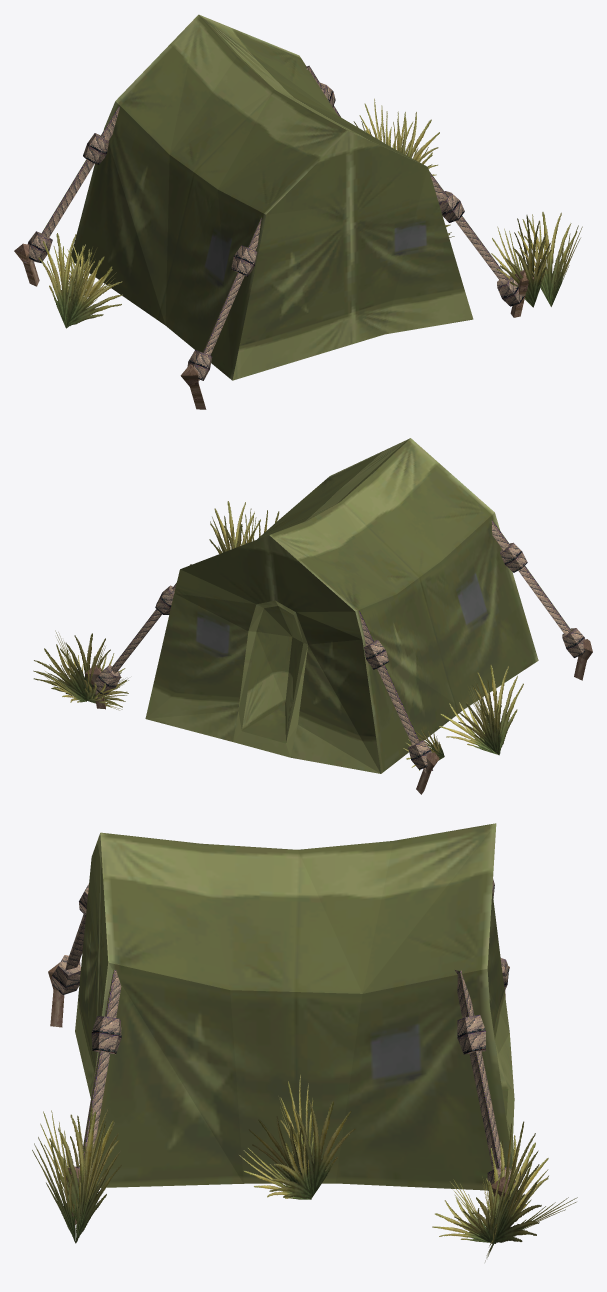
File: C1SMSMALLTENT2H.obj
3 views of the same model, one above another, from view 1: azimuth 30°, elevation 25°; view 2: azimuth 150°, elevation 25°; view 3: azimuth 270°, elevation 25° (orthographic). The views are drawn at different scales.
Parts seen in each view (by area): view 1: Node 2, Node 0, Node 3, Node 4, Node 5; view 2: Node 2, Node 0, Node 3, Node 4, Node 6; view 3: Node 2, Node 0, Node 6, Node 5, Node 4.
Part boxes in pixels (box(x1,y1,x2,y2)): Node 2: box(71, 14, 473, 380); Node 0: box(38, 98, 582, 328); Node 3: box(14, 106, 119, 286); Node 4: box(180, 216, 261, 409); Node 5: box(429, 171, 533, 317); Node 2: box(145, 438, 538, 773); Node 0: box(33, 501, 523, 770); Node 3: box(359, 610, 439, 794); Node 4: box(491, 519, 592, 680); Node 6: box(84, 564, 191, 709); Node 2: box(75, 823, 514, 1190); Node 0: box(32, 1074, 577, 1261); Node 6: box(455, 970, 517, 1201); Node 5: box(66, 970, 121, 1224); Node 4: box(48, 884, 88, 1027).
Size of the model in its own units: 8.86 by 4.31 by 7.31.
Materials: 10 (10 with a texture image).
